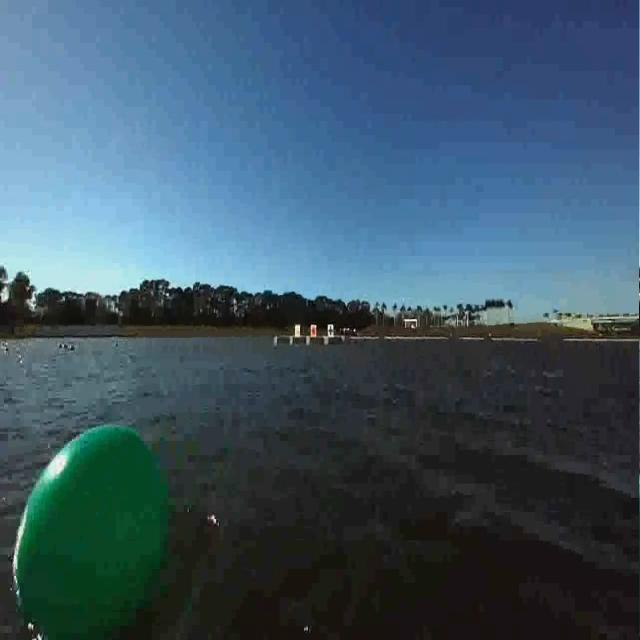green-buoy: (7, 411, 182, 640)
